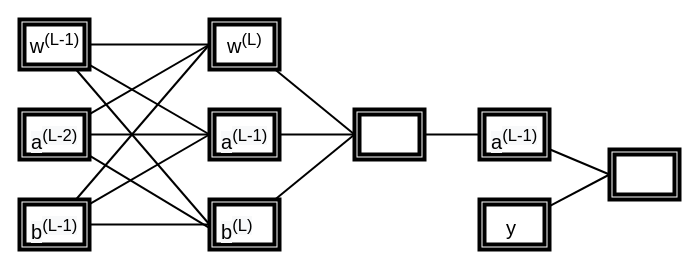
The diagram is 698 pixels wide and 268 high, and some of its shapes have lost their labels. The shapes that lost their labels are listed below. From the top down, each one's centre as x and y in pixels, then its label:
At pixel 389 134: "z (L)".
At pixel 644 174: "C 0".
